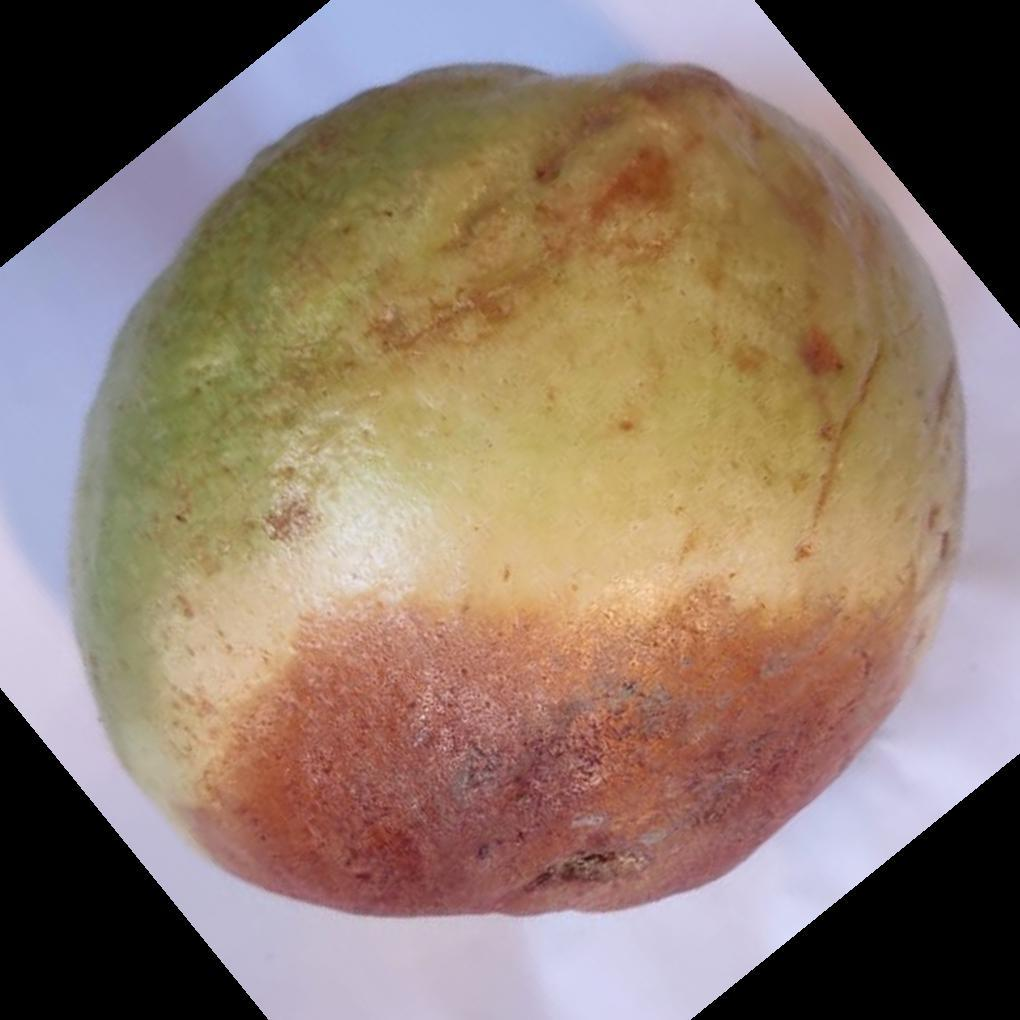FreshOrange: (66, 63, 969, 923)
